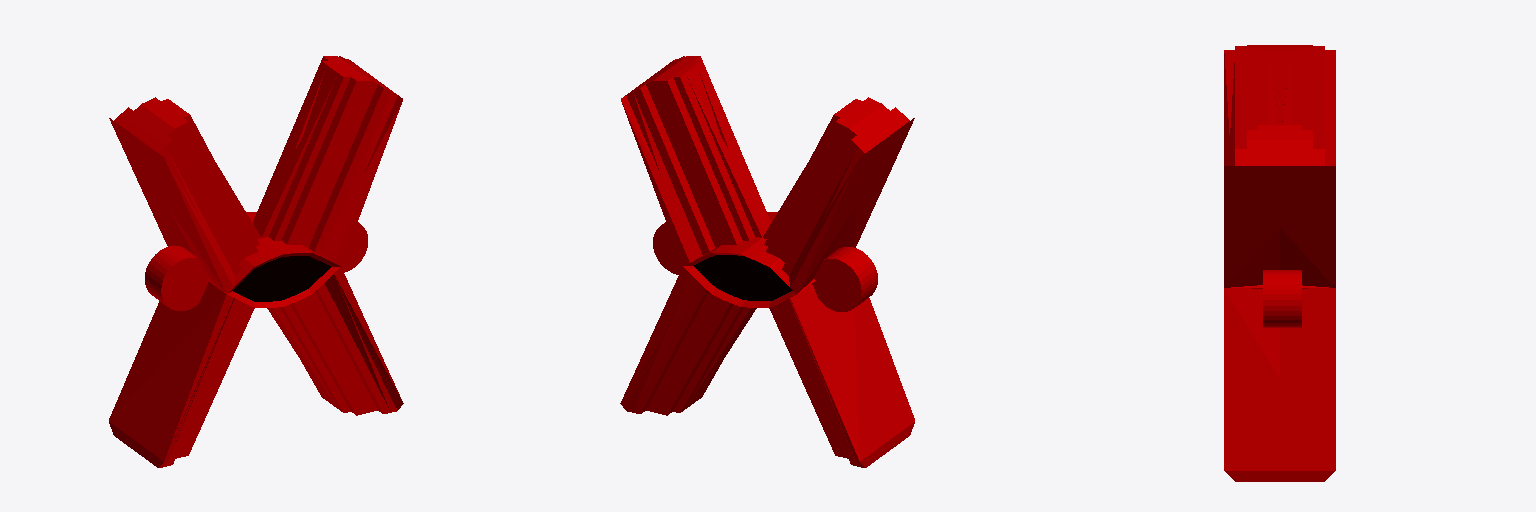
File: X_Gigante.obj
3 renders of one model, left to right at view 1: azimuth 30°, elevation 25°; view 2: azimuth 150°, elevation 25°; view 3: azimuth 270°, elevation 25°, orthographic.
Visible parts, largest first — view 1: Cylinder_Cylinder.001; view 2: Cylinder_Cylinder.001; view 3: Cylinder_Cylinder.001.
Boxes of the visible parts, <box> form: Cylinder_Cylinder.001: <box>109,56,403,467</box>; Cylinder_Cylinder.001: <box>620,56,914,467</box>; Cylinder_Cylinder.001: <box>1224,45,1335,481</box>.
Size of the model in its own units: 3.1 by 4.16 by 1.25.